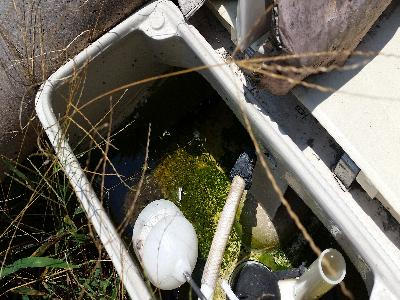box: (36, 1, 400, 300)
